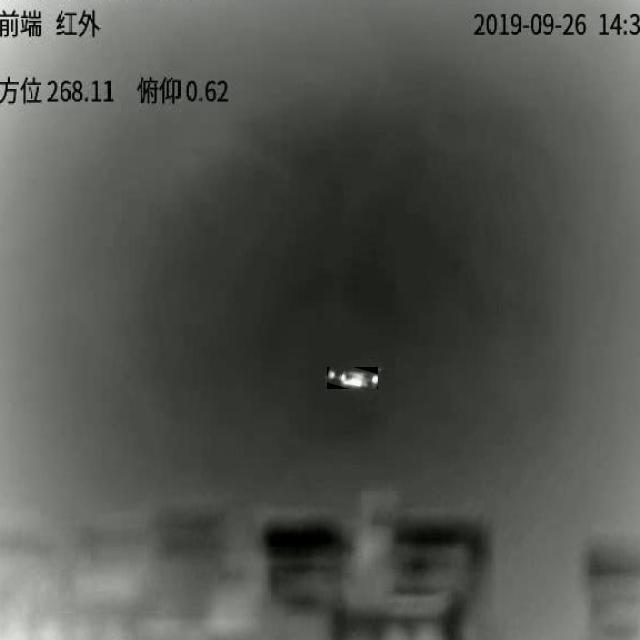drone: (327, 369, 378, 388)
